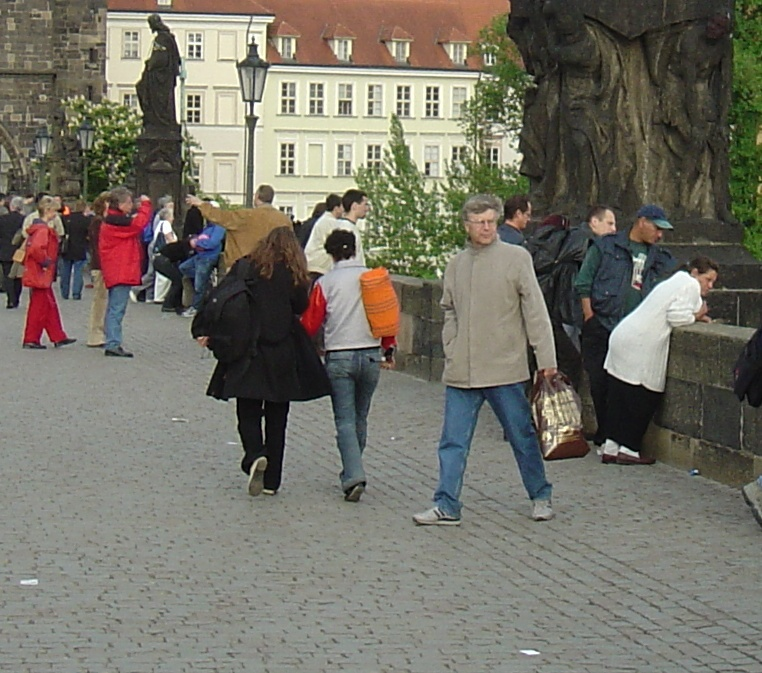person: (438, 186, 541, 531), (227, 222, 311, 502), (315, 228, 391, 504), (97, 182, 149, 358), (16, 193, 73, 348)
